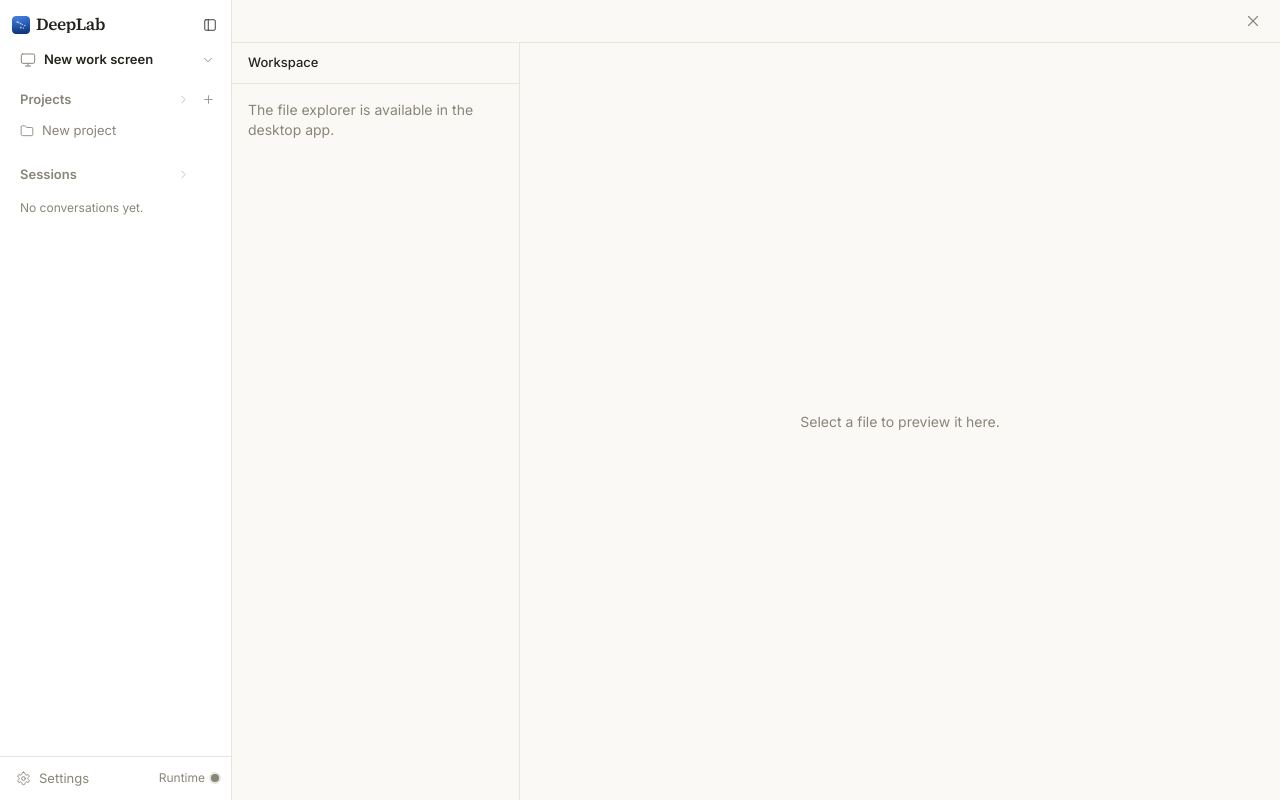
Sidebar i18n › renders migrated nav labels and section heading in English
// The secondary rows (Files etc.) are folded by default — expand them.
Click the button named "Show notebooks, files, runs and skills": x=208, y=60 [197, 49, 219, 71]
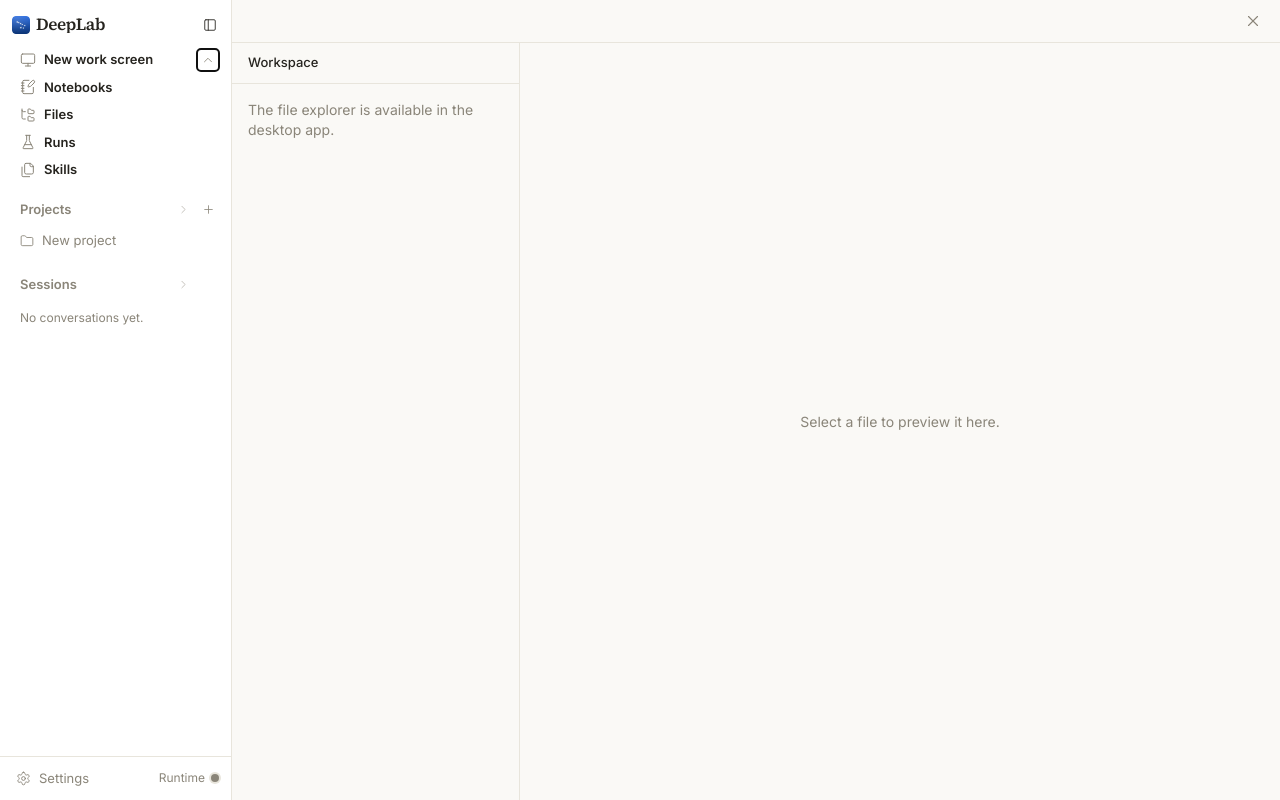
expect the text "Sessions" is shown: met, box [20, 276, 77, 292]
expect the text "Files" is shown: met, box [44, 105, 73, 124]
